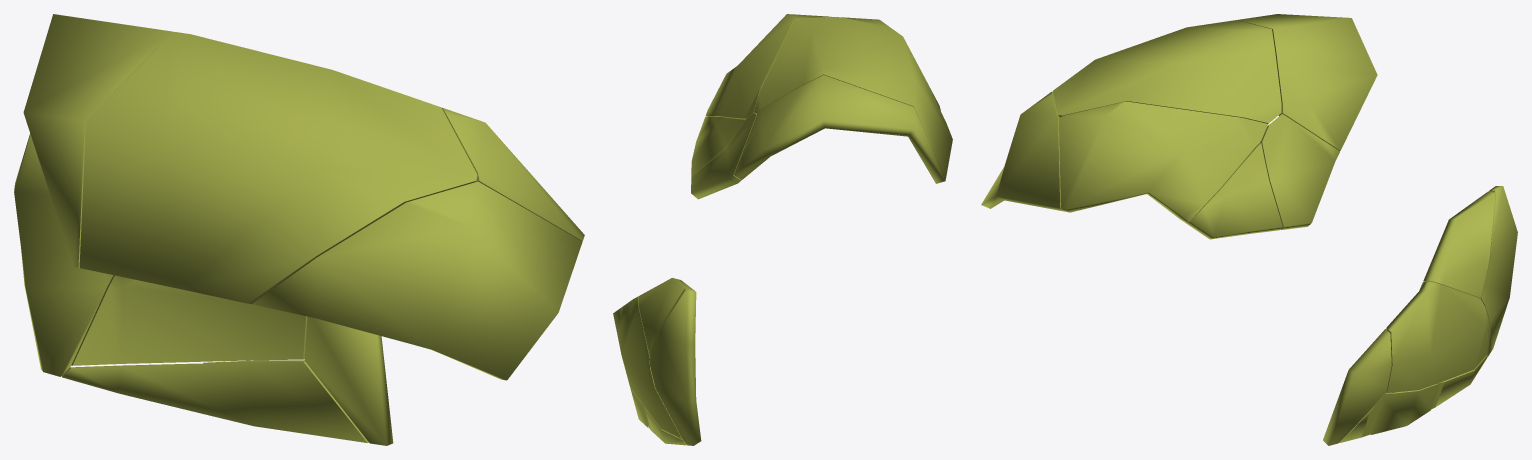
File: Plaque_08.fbx
The picture shows the model from 3 angles, left to right: view 1: azimuth 30°, elevation 25°; view 2: azimuth 150°, elevation 25°; view 3: azimuth 270°, elevation 25°; orthographic projection. The views are drawn at different scales.
Parts seen in each view (by area): view 1: tooth_d.044_cell.004, tooth_d.044_cell.005, tooth_d.049_cell.005, tooth_d.044_cell.002, tooth_d.049_cell.004, tooth_d.049_cell, tooth_d.049_cell.001, tooth_d.044_cell; view 2: tooth_d.044_cell.004, tooth_d.044_cell.002, tooth_d.049_cell, tooth_d.044_cell, tooth_d.049_cell.005, tooth_d.044_cell.003, tooth_d.049_cell.003, tooth_d.044_cell.001, tooth_d.049_cell.004; view 3: tooth_d.044_cell, tooth_d.044_cell.004, tooth_d.044_cell.002, tooth_d.049_cell.005, tooth_d.044_cell.003, tooth_d.044_cell.005, tooth_d.044_cell.001, tooth_d.049_cell.003, tooth_d.049_cell.001, tooth_d.049_cell, tooth_d.049_cell.002, tooth_d.049_cell.004.
Boxes of the visible parts, box(x1,y1,x2,y2) form: tooth_d.044_cell.004: box(79, 31, 477, 303); tooth_d.044_cell.005: box(252, 182, 582, 380); tooth_d.049_cell.005: box(71, 275, 307, 365); tooth_d.044_cell.002: box(23, 14, 173, 267); tooth_d.049_cell.004: box(61, 361, 368, 442); tooth_d.049_cell: box(14, 133, 113, 376); tooth_d.049_cell.001: box(304, 316, 393, 445); tooth_d.044_cell: box(442, 107, 584, 241); tooth_d.044_cell.004: box(754, 17, 952, 178); tooth_d.044_cell.002: box(734, 75, 945, 183); tooth_d.049_cell: box(649, 289, 701, 445); tooth_d.044_cell: box(705, 14, 831, 119); tooth_d.049_cell.005: box(617, 296, 681, 438); tooth_d.044_cell.003: box(691, 113, 756, 199); tooth_d.049_cell.003: box(639, 278, 693, 355); tooth_d.044_cell.001: box(691, 116, 745, 176); tooth_d.049_cell.004: box(642, 404, 686, 445); tooth_d.044_cell: box(1059, 101, 1268, 222); tooth_d.044_cell.004: box(1052, 20, 1281, 123); tooth_d.044_cell.002: box(1237, 14, 1377, 150); tooth_d.049_cell.005: box(1386, 281, 1489, 393); tooth_d.044_cell.003: box(1260, 114, 1339, 229); tooth_d.044_cell.005: box(981, 91, 1064, 211); tooth_d.044_cell.001: box(1185, 142, 1282, 239); tooth_d.049_cell.003: box(1423, 191, 1495, 297); tooth_d.049_cell.001: box(1323, 329, 1391, 445); tooth_d.049_cell: box(1479, 186, 1517, 356); tooth_d.049_cell.002: box(1370, 383, 1439, 434); tooth_d.049_cell.004: box(1339, 356, 1487, 442).
Size of the model in its own units: 60.4 by 71.66 by 103.
